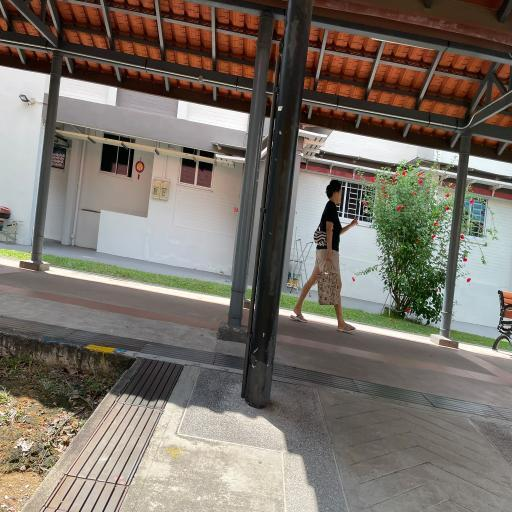person_right: (292, 178, 360, 328)
